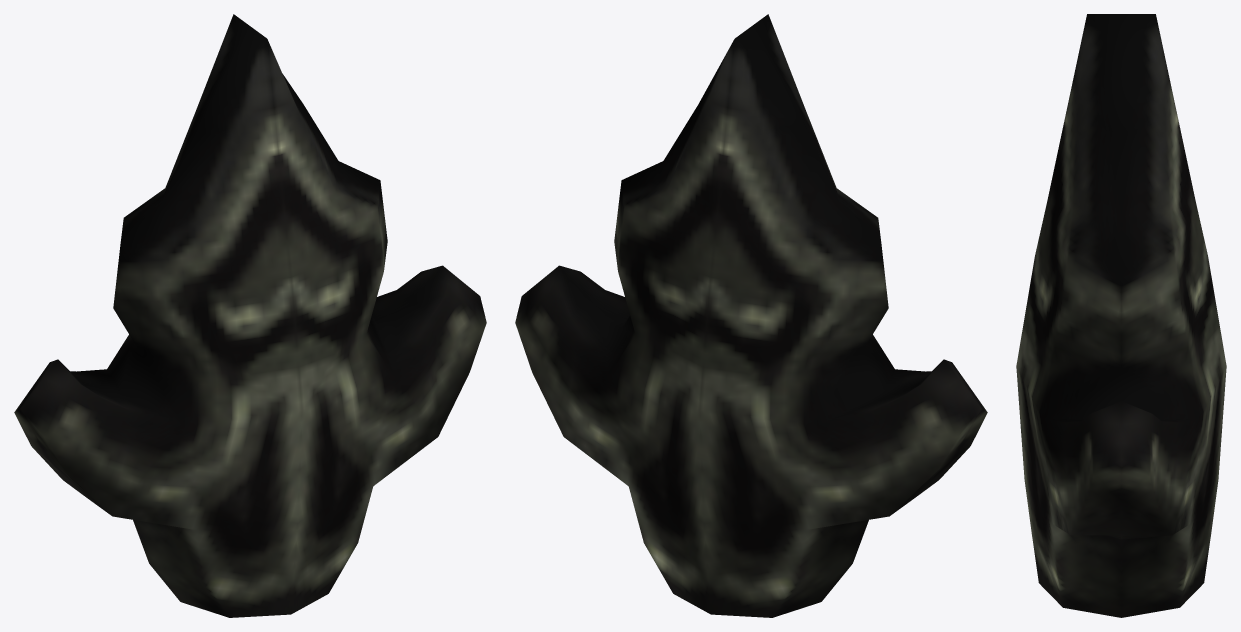
The model's file is Stick_tail_default.FBX.
The picture shows the model from 3 angles, left to right: view 1: azimuth 30°, elevation 25°; view 2: azimuth 150°, elevation 25°; view 3: azimuth 270°, elevation 25°; orthographic projection.
Visible parts, largest first — view 1: Stick_tail_default; view 2: Stick_tail_default; view 3: Stick_tail_default.
Boxes of the visible parts, left/top/right/bottom form: Stick_tail_default: left=14, top=14, right=486, bottom=617; Stick_tail_default: left=515, top=14, right=987, bottom=617; Stick_tail_default: left=1016, top=14, right=1226, bottom=617.
Size of the model in its own units: 10.64 by 12.36 by 4.14.
1 material, 1 textured.
